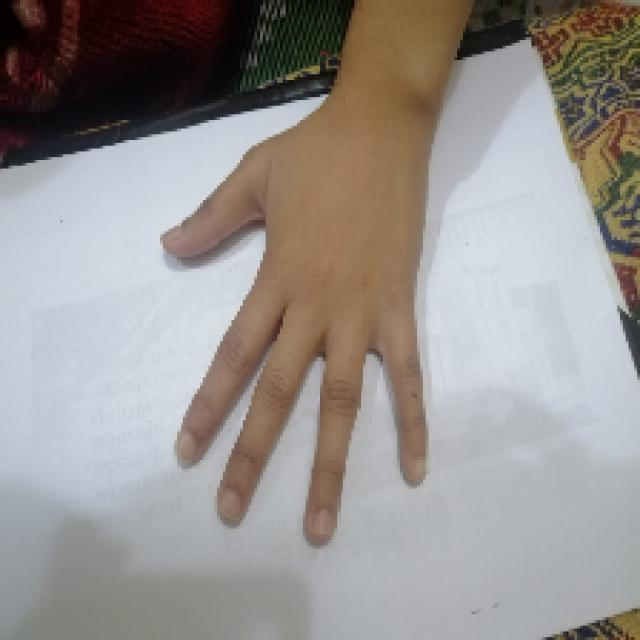Nail: (175, 433, 195, 468), (312, 508, 336, 534), (219, 489, 241, 516), (161, 227, 180, 240), (415, 457, 426, 477)
